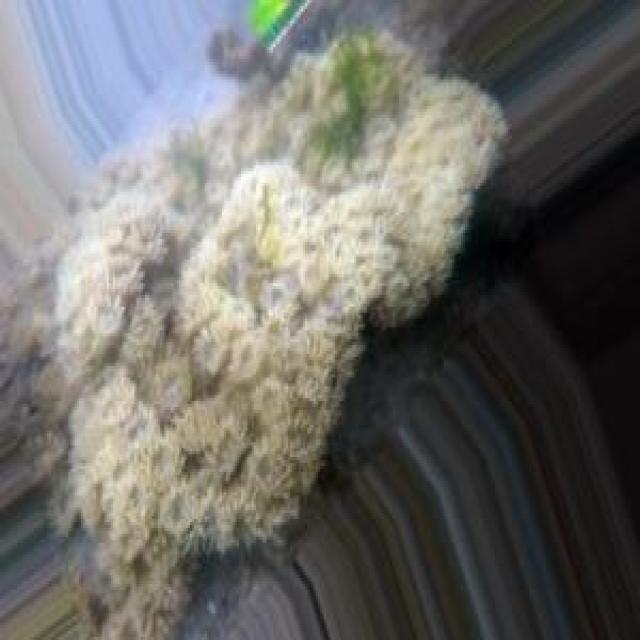Bleached: (56, 33, 504, 606)
